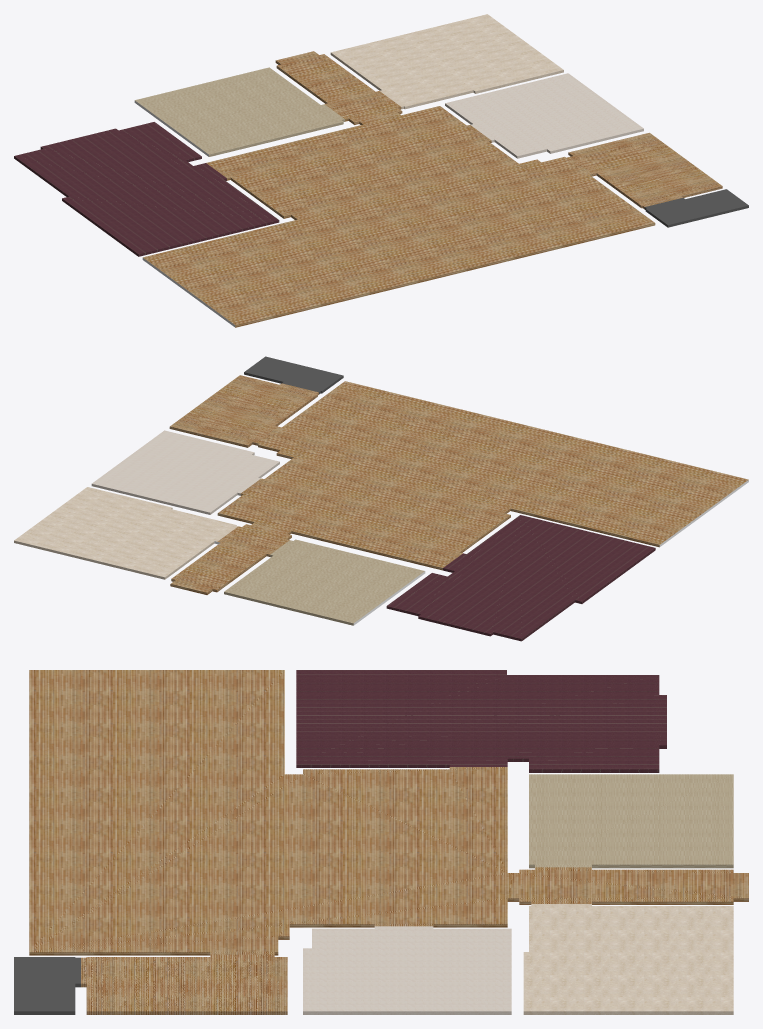
The model's file is robot_house_ground.dae.
3 renders of one model, top to bottom at view 1: azimuth 30°, elevation 25°; view 2: azimuth 150°, elevation 25°; view 3: azimuth 270°, elevation 25°, orthographic. The views are drawn at different scales.
Parts seen in each view (by area): view 1: ground (×7); view 2: ground (×7); view 3: ground (×7).
Boxes of the visible parts, <box> form: ground (×7): <box>14,14,748,327</box>; ground (×7): <box>14,356,748,641</box>; ground (×7): <box>14,670,748,1014</box>.
Bounding box in the file's own units: 419 × 381 × 1.97.
Materials: 7 (5 with a texture image).
